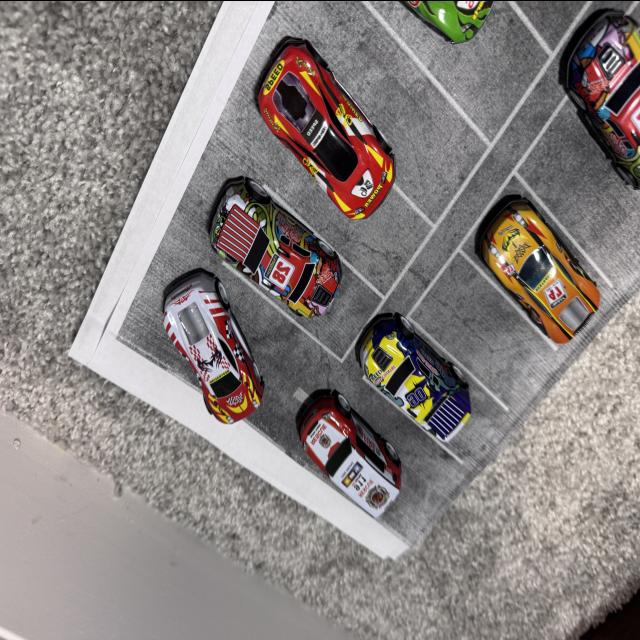Car: (440, 145, 620, 385), (202, 153, 349, 364), (130, 253, 279, 450), (258, 32, 394, 244), (276, 368, 418, 534), (545, 0, 640, 235), (349, 304, 474, 451)
